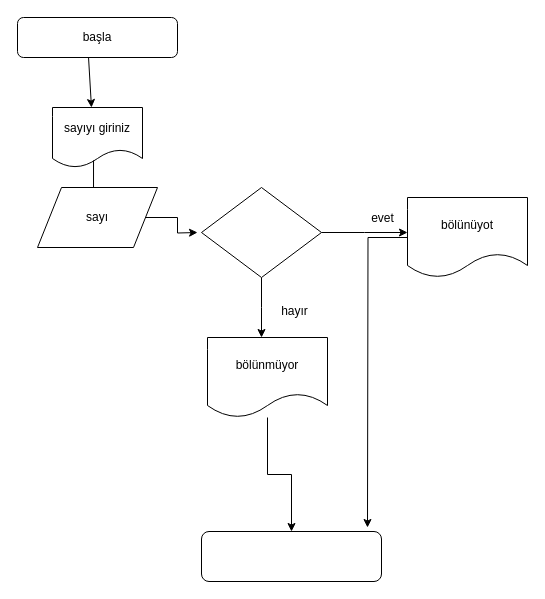
The diagram is 545 pixels wide and 599 high, and some of its shapes have lost their labels. The shapes that lost their labels are listed below. From the top down, each one's centre as x and y in pixels, then its label:
the point at 261,232: sayi%3==0 && sayi%5==0
the point at 291,556: bitir
